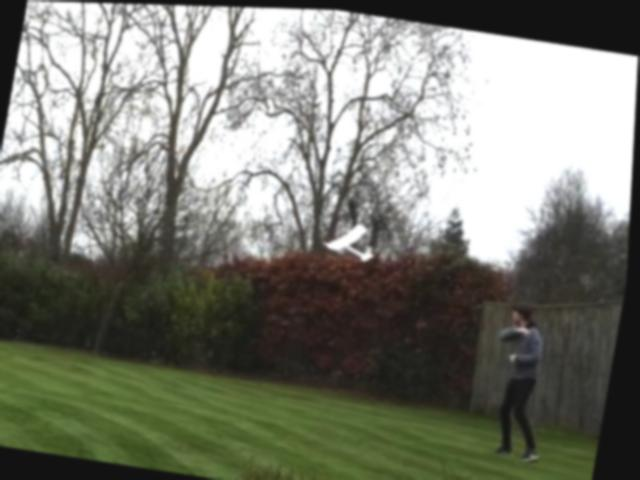uav: (316, 205, 390, 276)
